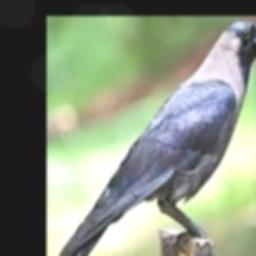Crow: (52, 21, 256, 256)
